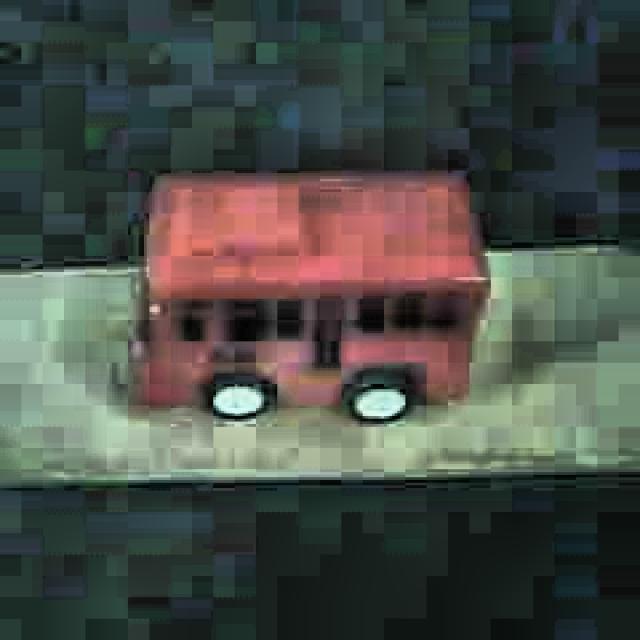bus: (132, 165, 490, 427)
